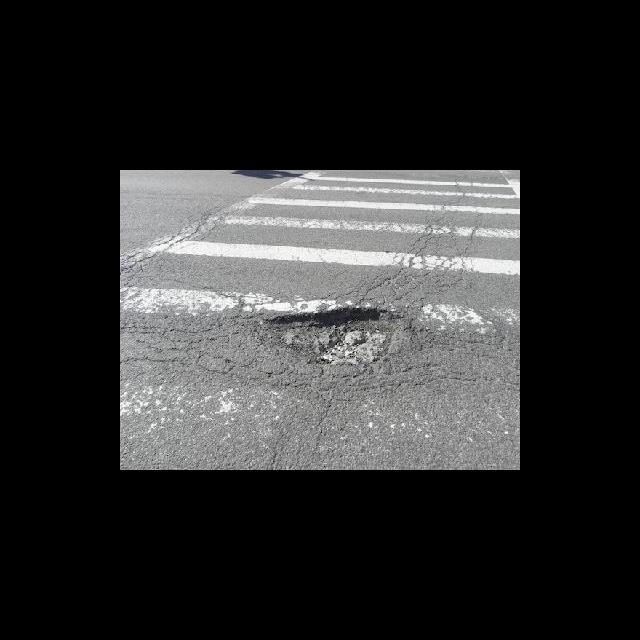lubang_kecil: (258, 283, 409, 397)
retak_kulit_buaya: (376, 229, 462, 298)
